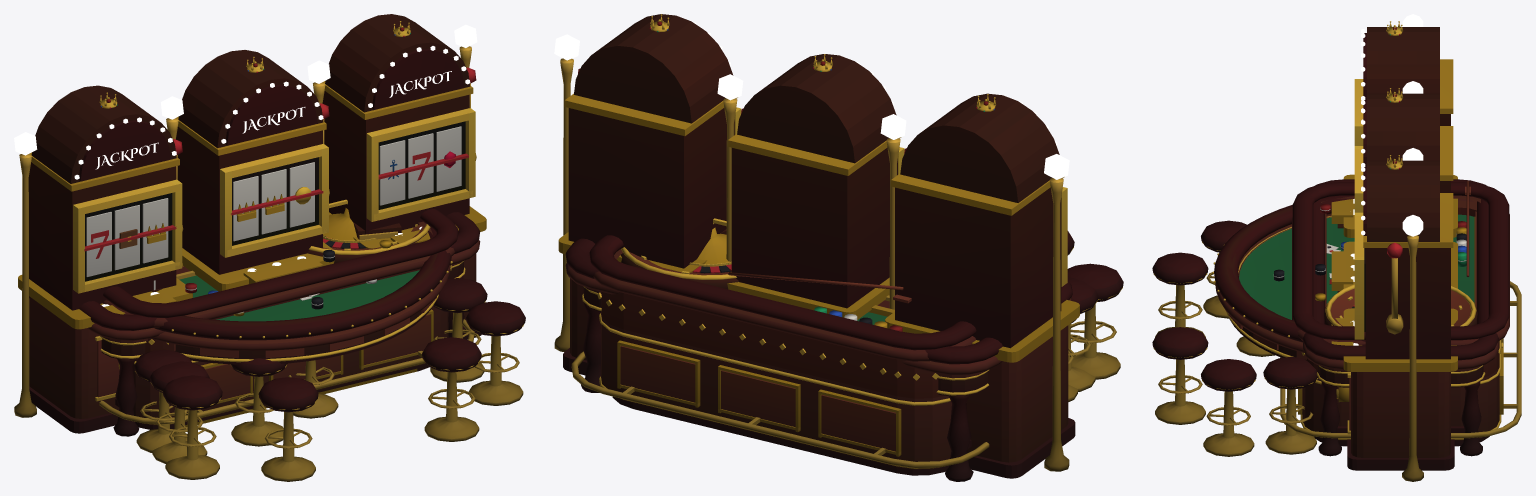
Rendered from casino_tables.glb.
The picture shows the model from 3 angles, left to right: view 1: azimuth 30°, elevation 25°; view 2: azimuth 150°, elevation 25°; view 3: azimuth 270°, elevation 25°; orthographic projection. The views are drawn at different scales.
Visible parts, largest first — view 1: slots_LOD0, blackjack_LOD0, dice_LOD0, roulette_LOD0; view 2: slots_LOD0, dice_LOD0, roulette_LOD0, blackjack_LOD0; view 3: slots_LOD0, blackjack_LOD0, dice_LOD0, roulette_LOD0.
Part boxes in pixels (x1=…): slots_LOD0: x1=14, y1=14, x2=487, y2=452; blackjack_LOD0: x1=102, y1=222, x2=525, y2=481; dice_LOD0: x1=99, y1=209, x2=474, y2=429; roulette_LOD0: x1=79, y1=199, x2=480, y2=463; slots_LOD0: x1=554, y1=14, x2=1080, y2=478; dice_LOD0: x1=571, y1=235, x2=989, y2=475; roulette_LOD0: x1=565, y1=218, x2=1098, y2=481; blackjack_LOD0: x1=720, y1=229, x2=1123, y2=379; slots_LOD0: x1=1263, y1=14, x2=1457, y2=481; blackjack_LOD0: x1=1152, y1=195, x2=1365, y2=456; dice_LOD0: x1=1280, y1=181, x2=1521, y2=446; roulette_LOD0: x1=1236, y1=179, x2=1498, y2=456.
Size of what is drawn, in the model's own units: 4.08 by 2.6 by 3.03.
